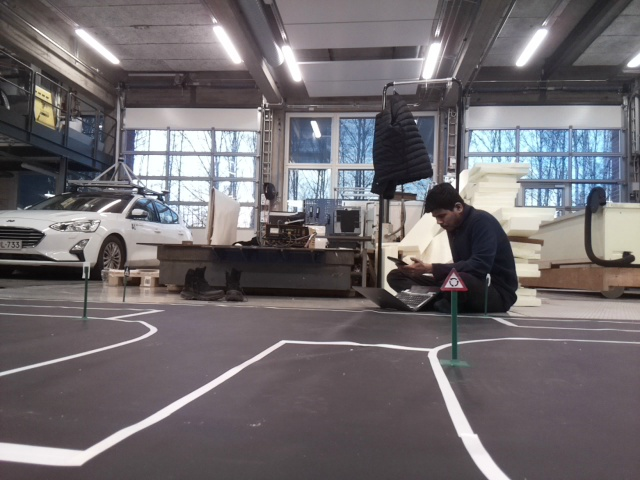Roundabout: (440, 268, 468, 291)
